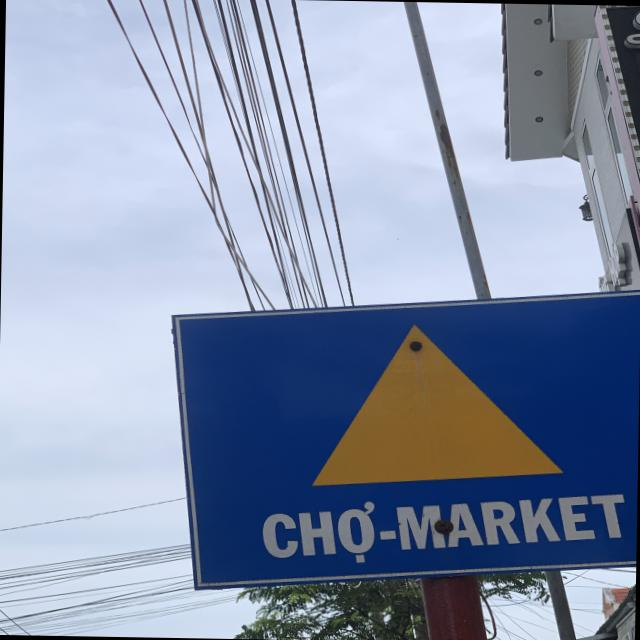Cho_Quay_Xe: (178, 292, 640, 580)
